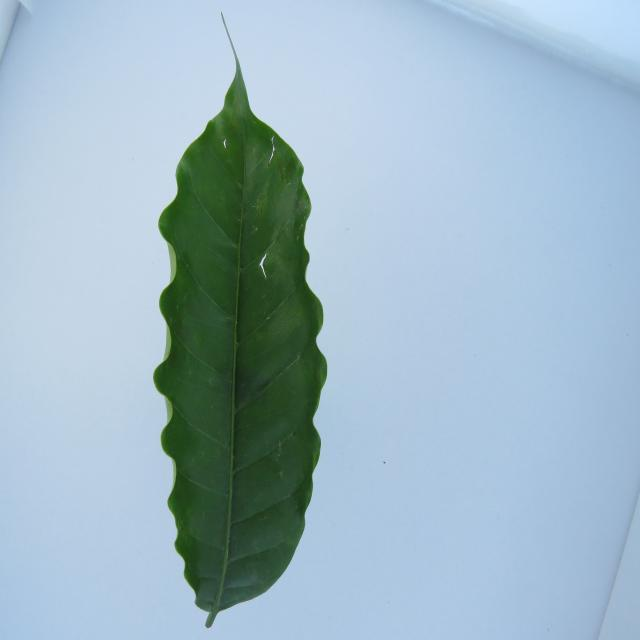DeficienciaNutricional-Calcio: (154, 55, 326, 627)
